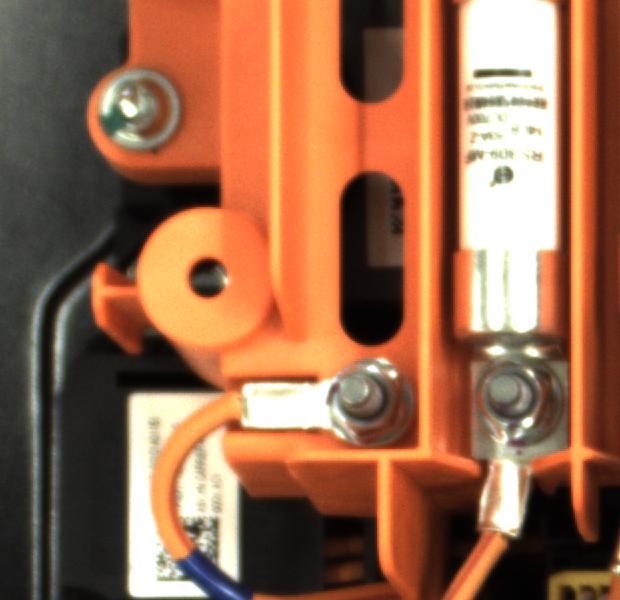screw_m: (87, 63, 198, 155)
screw_s: (315, 359, 413, 447), (470, 358, 555, 445)
